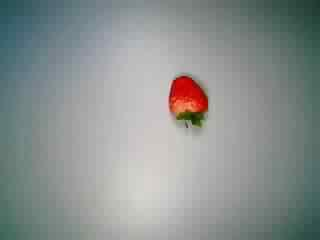strawberry: (154, 71, 220, 133)
